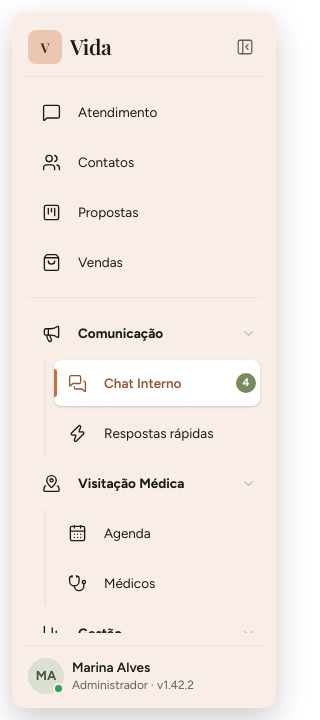
Test case: Sidebar — badge de não lidas do Chat Interno (D-130, CRMLAB-8) › grupo "Comunicação" fechado com não lidas mostra o badge no lugar do ponto
Click the button "Comunicação" at point(144, 333), box x1=28 y1=310 x2=260 y2=356
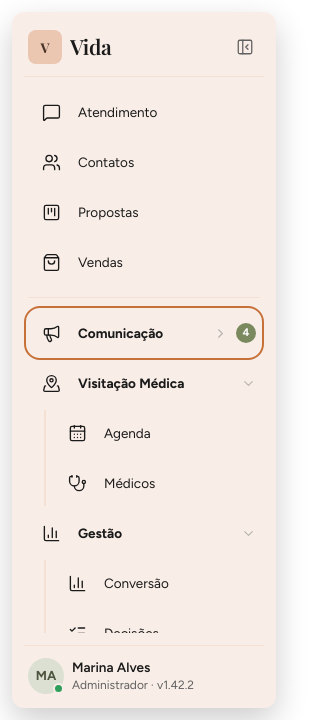
expect the button "Comunicação 4" is collapsed: met, box x1=28 y1=310 x2=260 y2=356
expect the button "Comunicação 4" is shown: met, box x1=28 y1=310 x2=260 y2=356
